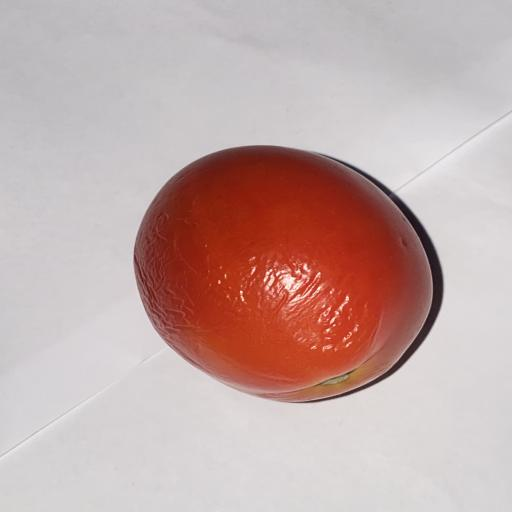overipe: (134, 146, 432, 401)
